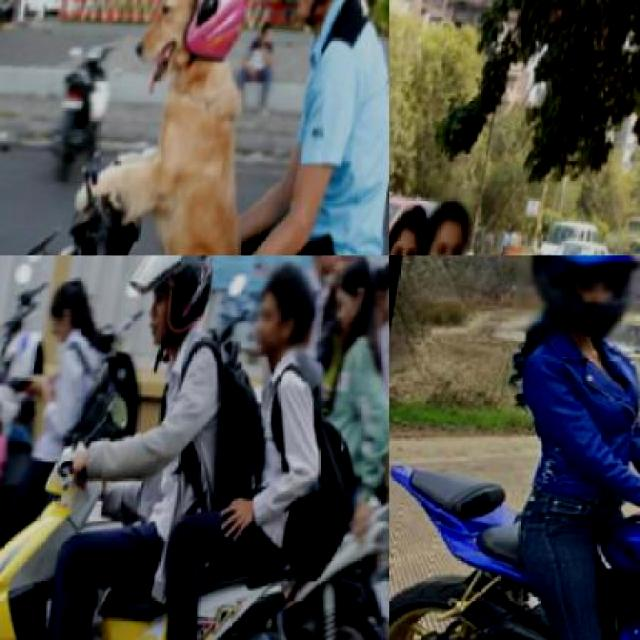With Helmet: (509, 255, 638, 343), (119, 255, 226, 358), (260, 0, 378, 31)
Without Helmet: (248, 256, 324, 362), (418, 186, 484, 254)
